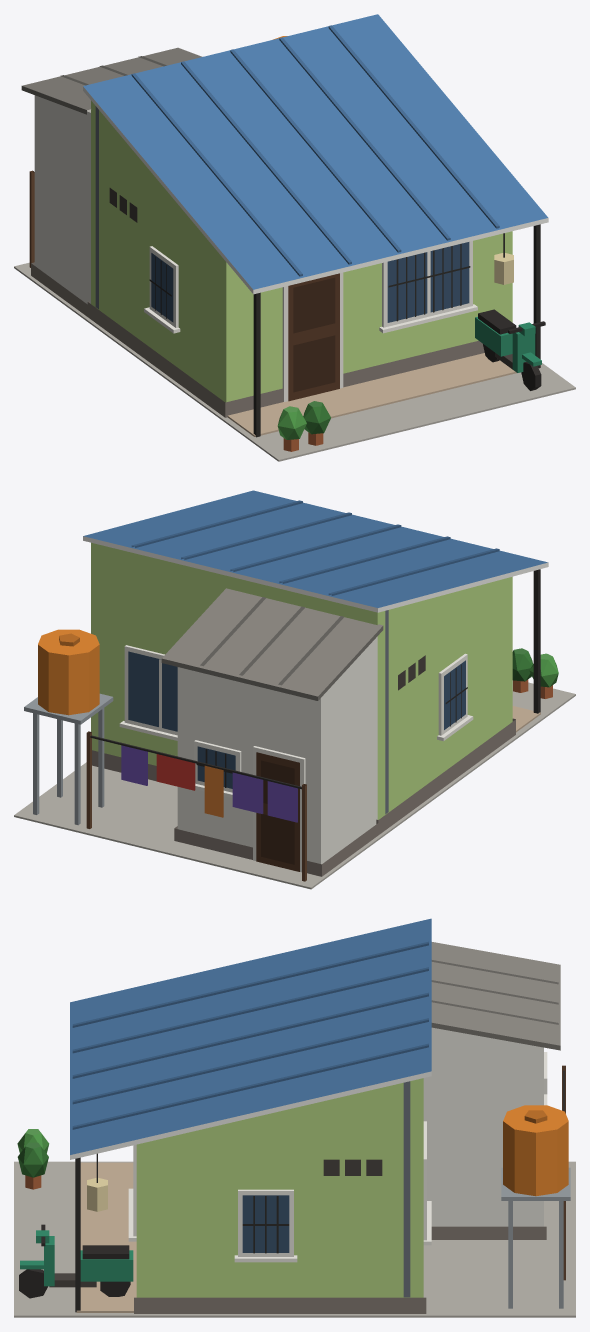
The model's file is rumah_00.glb.
3 renders of one model, top to bottom at view 1: azimuth 30°, elevation 25°; view 2: azimuth 150°, elevation 25°; view 3: azimuth 270°, elevation 25°, orthographic. The views are drawn at different scales.
Parts seen in each view (by area): view 1: rumah_00; view 2: rumah_00; view 3: rumah_00.
Boxes of the visible parts, x1,y1,x2,y2 form: rumah_00: (14, 14, 575, 461); rumah_00: (14, 490, 575, 889); rumah_00: (14, 918, 575, 1317).
Bounding box in the file's own units: 5.5 × 4.09 × 8.42.
